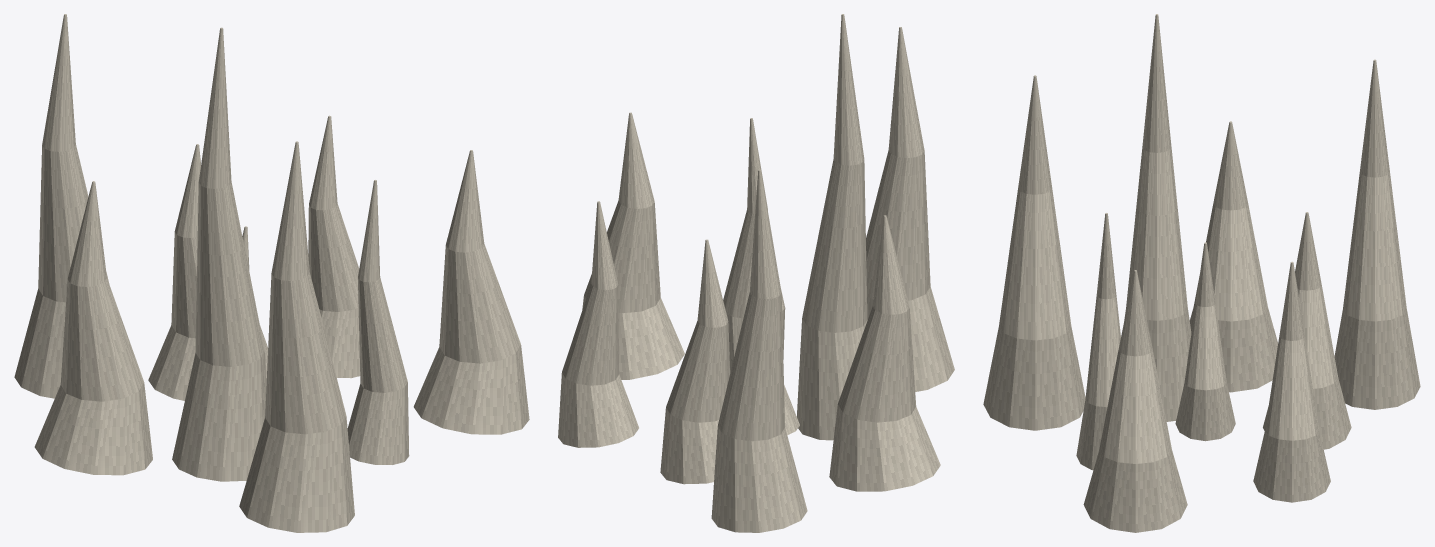
File: cave-and-crystal-networks-stalagmite-3-beefb0c8.glb
The picture shows the model from 3 angles, left to right: view 1: azimuth 30°, elevation 25°; view 2: azimuth 150°, elevation 25°; view 3: azimuth 270°, elevation 25°; orthographic projection. The views are drawn at different scales.
Parts seen in each view (by area): view 1: stalagmite-3; view 2: stalagmite-3; view 3: stalagmite-3.
Part boxes in pixels (left/top/right/bottom): stalagmite-3: left=14, top=14, right=529, bottom=532; stalagmite-3: left=558, top=14, right=954, bottom=532; stalagmite-3: left=983, top=14, right=1420, bottom=532.
Bounding box in the file's own units: 1.97 × 1.95 × 1.97.
Materials: 1 (1 with a texture image).
